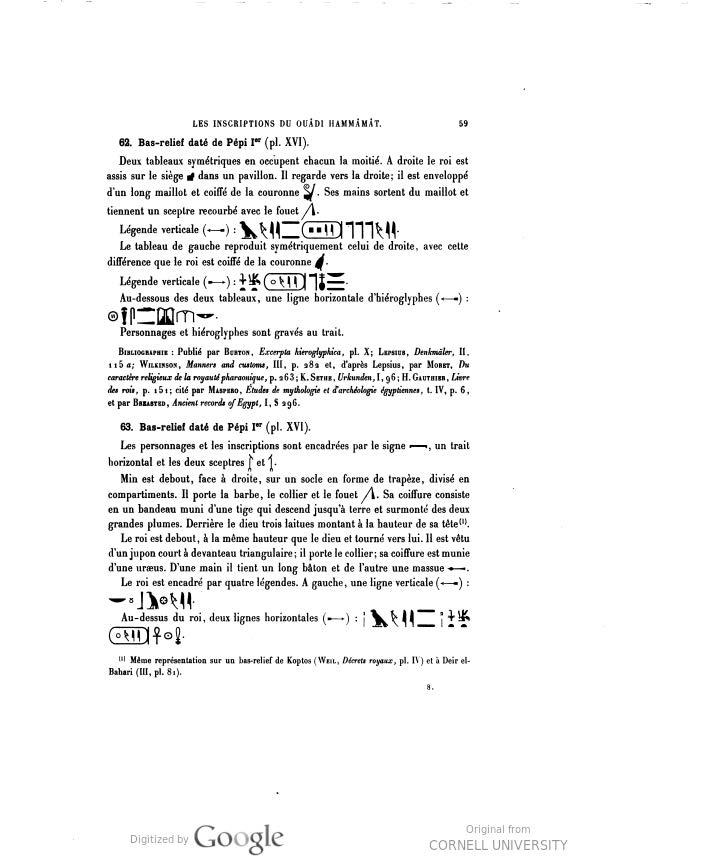circle: (297, 212, 350, 252), (255, 264, 314, 297), (108, 618, 152, 651)
